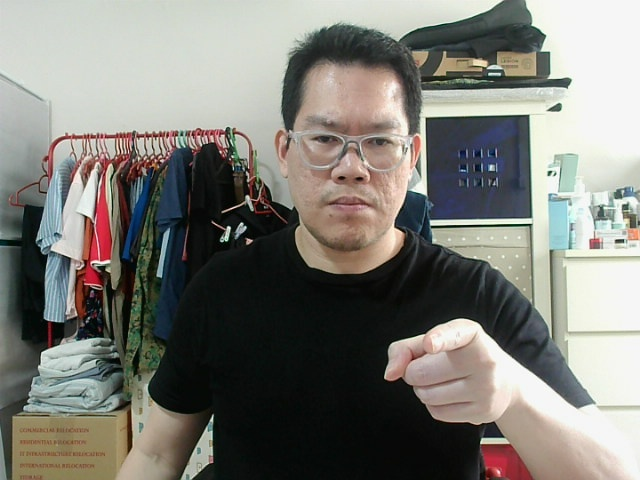you: (392, 328, 507, 413)
